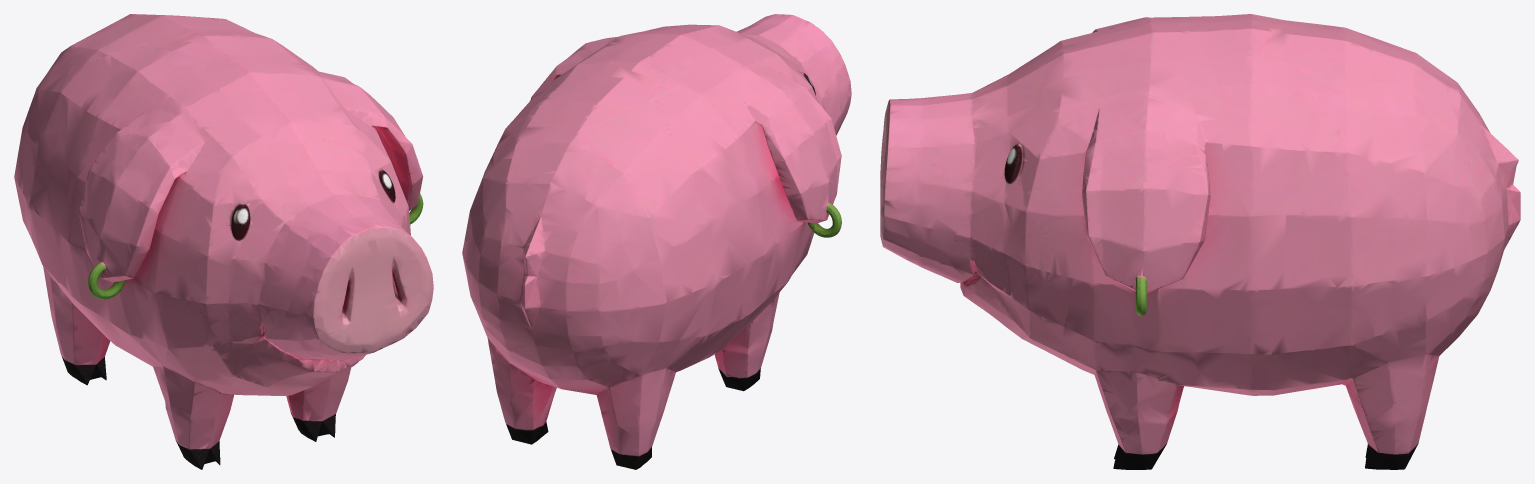
File: cerdito-rosa-low-poly.glb
The picture shows the model from 3 angles, left to right: view 1: azimuth 30°, elevation 25°; view 2: azimuth 150°, elevation 25°; view 3: azimuth 270°, elevation 25°; orthographic projection. The views are drawn at different scales.
Bounding box in the file's own units: 1.25 × 1.33 × 1.9.
Materials: 1 (1 with a texture image).
